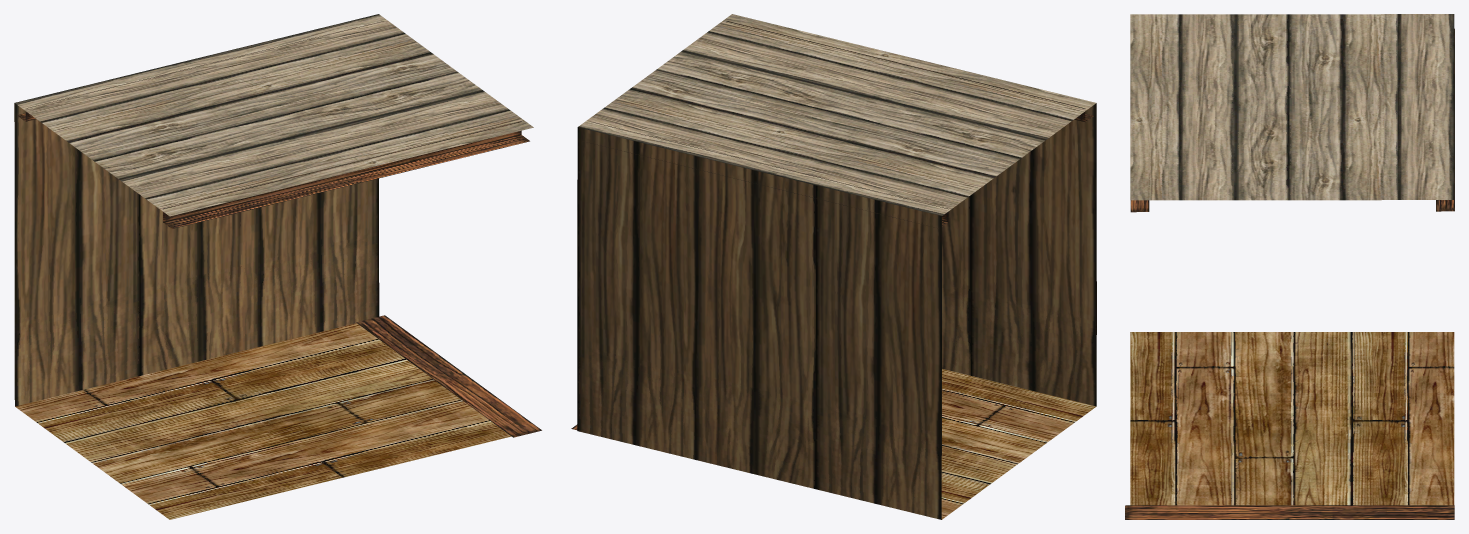
The model's file is LAKETOWN_WAREHOUSE2_PS_WH2_HALL_484847__GX.fbx.
3 renders of one model, left to right at view 1: azimuth 30°, elevation 25°; view 2: azimuth 150°, elevation 25°; view 3: azimuth 270°, elevation 25°, orthographic. The views are drawn at different scales.
Visible parts, largest first — view 1: LAKETOWN_WAREHOUSE2_PS_WH2_HALL_484847__GX; view 2: LAKETOWN_WAREHOUSE2_PS_WH2_HALL_484847__GX; view 3: LAKETOWN_WAREHOUSE2_PS_WH2_HALL_484847__GX.
Boxes of the visible parts, left/top/right/bottom form: LAKETOWN_WAREHOUSE2_PS_WH2_HALL_484847__GX: left=14, top=14, right=541, bottom=519; LAKETOWN_WAREHOUSE2_PS_WH2_HALL_484847__GX: left=571, top=14, right=1096, bottom=519; LAKETOWN_WAREHOUSE2_PS_WH2_HALL_484847__GX: left=1125, top=14, right=1454, bottom=519.
Bounding box in the file's own units: 41435 × 32480 × 30517.
Materials: 4 (4 with a texture image).
